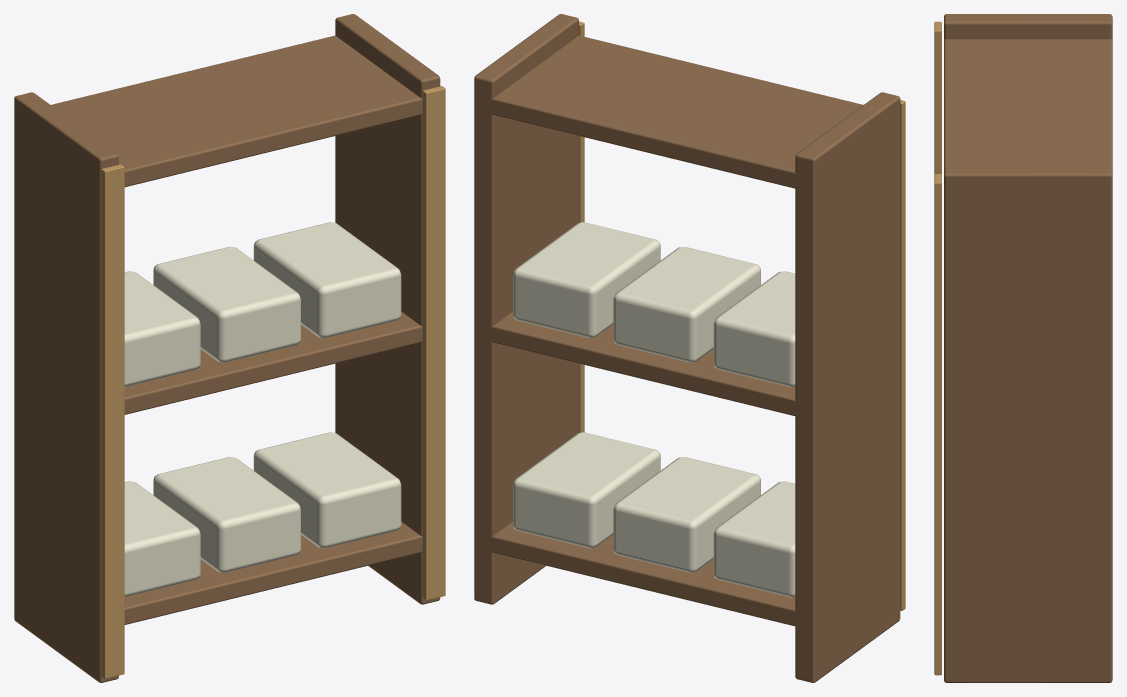
The model's file is fantasy-bathhouse-and-thermal-sanctuary-fantasy-bathho-ce2df0fb__29461.glb.
3 views of the same model, side by side, from view 1: azimuth 30°, elevation 25°; view 2: azimuth 150°, elevation 25°; view 3: azimuth 270°, elevation 25° (orthographic). The views are drawn at different scales.
Visible parts, largest first — view 1: fantasy-bathhouse-and-thermal-sanctuary-towel-shelf; view 2: fantasy-bathhouse-and-thermal-sanctuary-towel-shelf; view 3: fantasy-bathhouse-and-thermal-sanctuary-towel-shelf.
Part boxes in pixels (x1,y1,x2,y2): fantasy-bathhouse-and-thermal-sanctuary-towel-shelf: (14, 14, 445, 682); fantasy-bathhouse-and-thermal-sanctuary-towel-shelf: (474, 14, 905, 682); fantasy-bathhouse-and-thermal-sanctuary-towel-shelf: (934, 14, 1112, 682).
Bounding box in the file's own units: 1.02 × 1.5 × 0.475.
